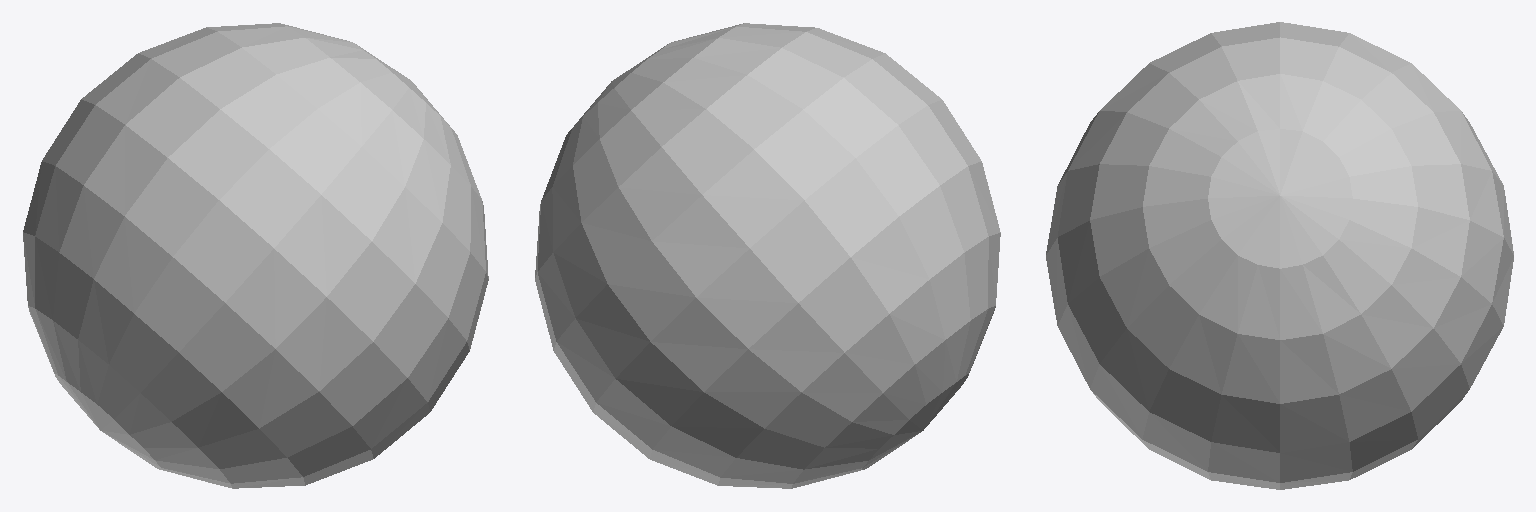
Rendered from holopsicon.obj.
The picture shows the model from 3 angles: view 1: azimuth 30°, elevation 25°; view 2: azimuth 150°, elevation 25°; view 3: azimuth 270°, elevation 25°; orthographic projection.
Visible parts, largest first — view 1: Name; view 2: Name; view 3: Name.
Part boxes in pixels (x1,y1,x2,y2): Name: (23, 23, 488, 488); Name: (535, 23, 1000, 488); Name: (1046, 22, 1513, 489).
Size of the model in its own units: 158 by 158 by 158.